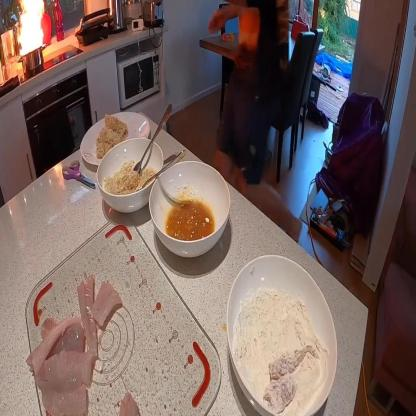fire: (16, 0, 47, 58)
